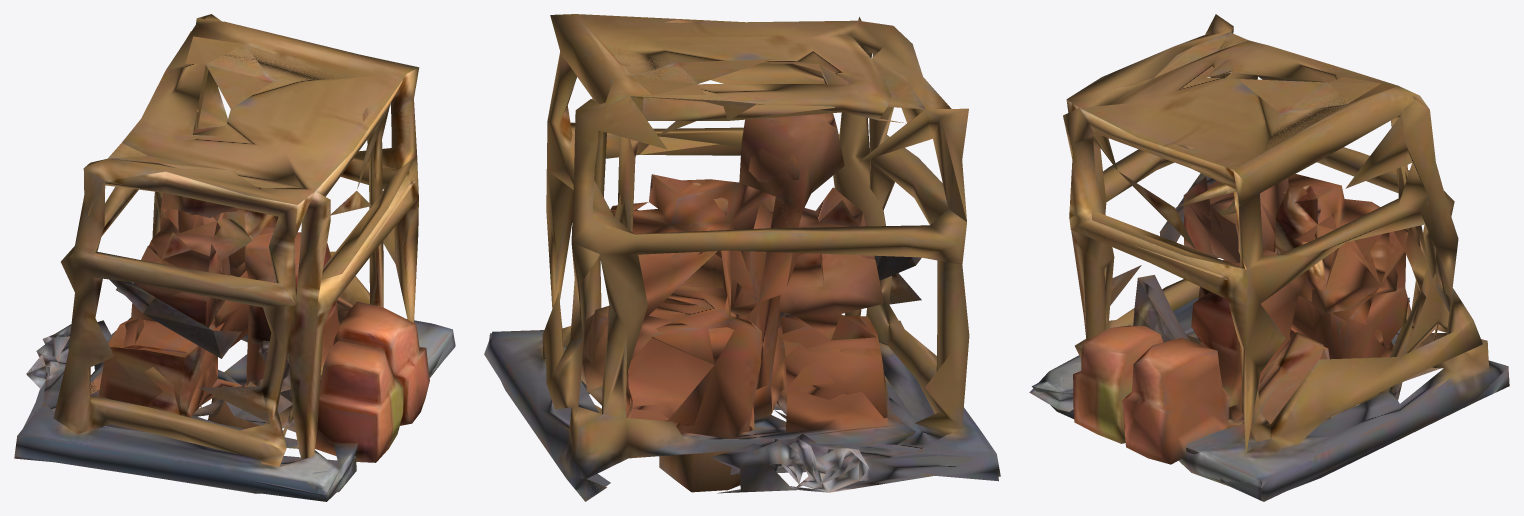
The model's file is construction.glb.
The picture shows the model from 3 angles, left to right: view 1: azimuth 30°, elevation 25°; view 2: azimuth 150°, elevation 25°; view 3: azimuth 270°, elevation 25°; orthographic projection. The views are drawn at different scales.
Visible parts, largest first — view 1: level; view 2: level; view 3: level.
Part boxes in pixels (bbox=[...]): level: bbox=[14, 14, 455, 501]; level: bbox=[484, 14, 1000, 501]; level: bbox=[1029, 14, 1509, 501].
Bounding box in the file's own units: 0.9157 × 0.7403 × 0.8518.
Materials: 1 (1 with a texture image).
